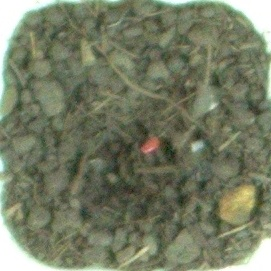chilli seed: (136, 130, 164, 156)
